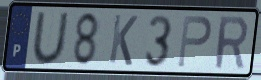3: (143, 14, 175, 69)
8: (72, 11, 101, 68)
K: (107, 13, 139, 68)
P: (176, 13, 214, 70)
R: (213, 14, 249, 72)
U: (30, 11, 71, 67)
